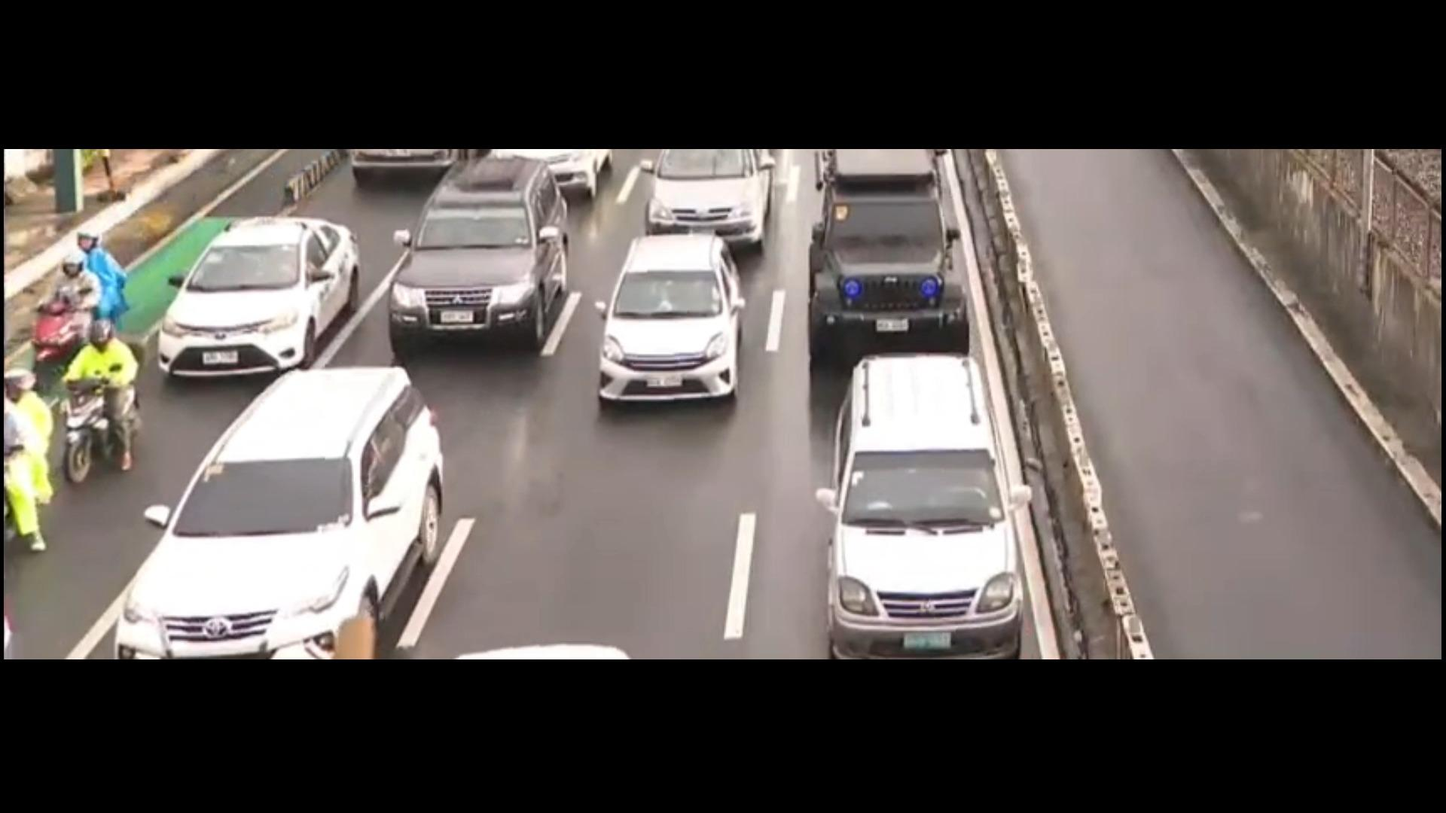Motorcycle: (15, 200, 134, 363), (54, 324, 168, 483), (0, 365, 63, 545)
SUV: (111, 347, 475, 657), (814, 337, 1036, 657), (364, 151, 582, 365), (799, 146, 1001, 371), (622, 142, 787, 252)
Sedan: (138, 182, 369, 395), (576, 219, 763, 428)
